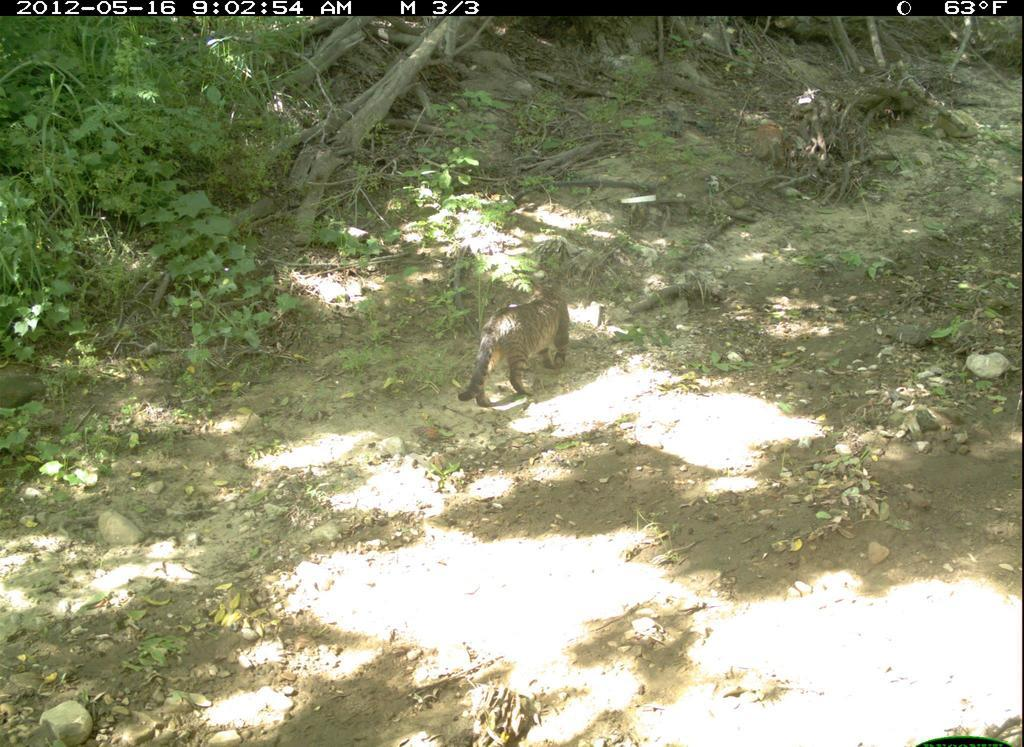cat: (449, 274, 585, 419)
